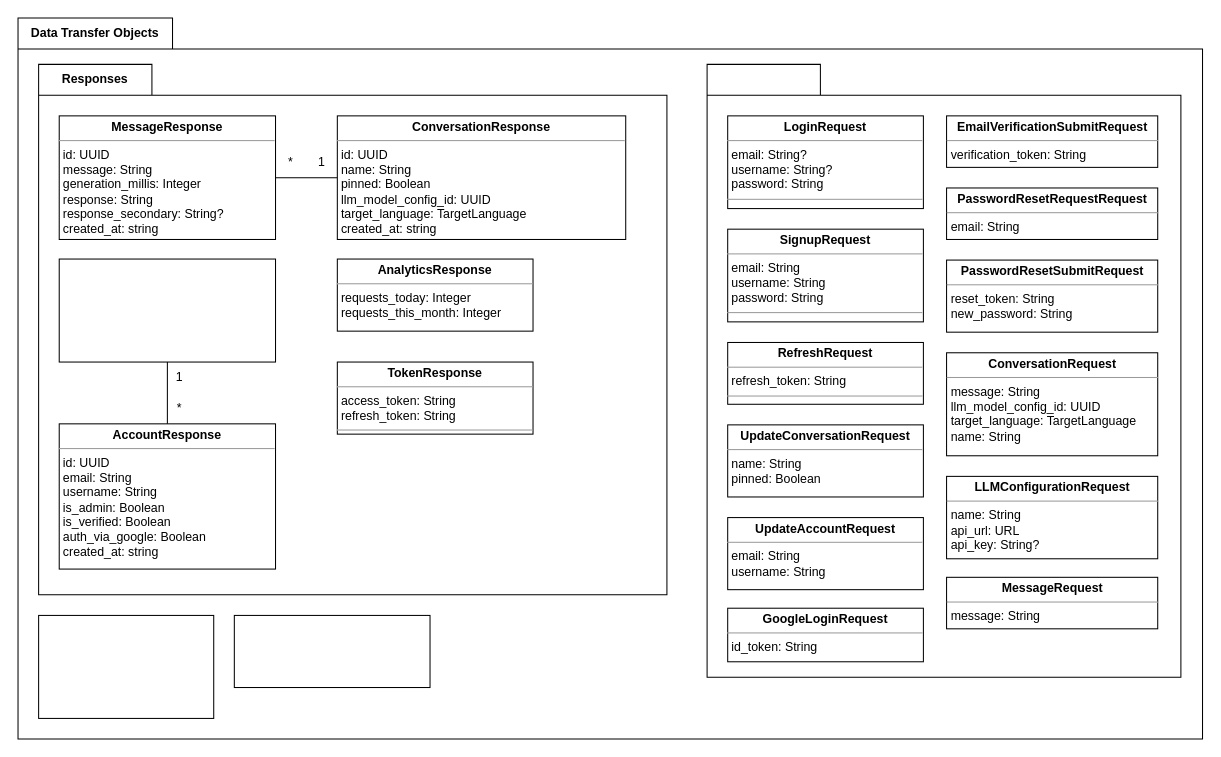
Image size: 1221x757. Some labels were removed from this diagram. Each missing label, with the box of its shape:
LLMConfigurationResponse id: UUID name: String api_url: URL api_key_set: Boolean: (58, 258, 276, 362)
QuotaConfig member: Integer admin: Integer: (233, 614, 430, 688)
Requests: (706, 63, 1181, 677)
«enum» TargetLanguage SPICE_NETLIST, PYTHON, JAVA: (38, 614, 214, 718)
